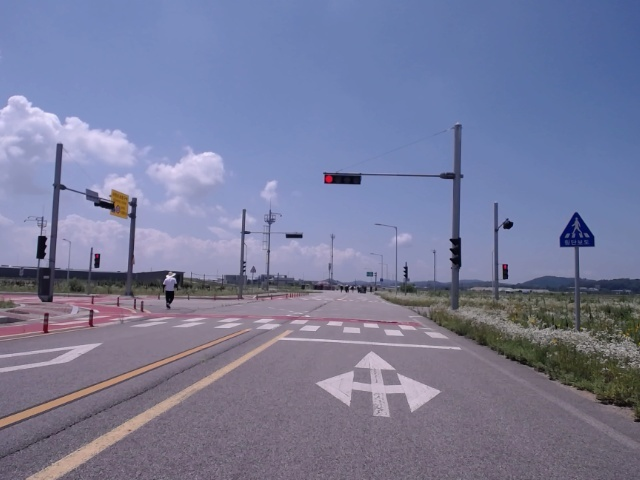red_4: (324, 175, 361, 184)
